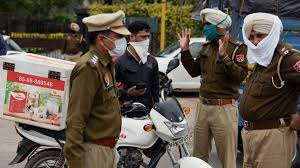mask: (242, 17, 277, 61), (94, 24, 127, 64), (198, 8, 222, 44), (131, 22, 152, 62), (69, 22, 79, 35)
